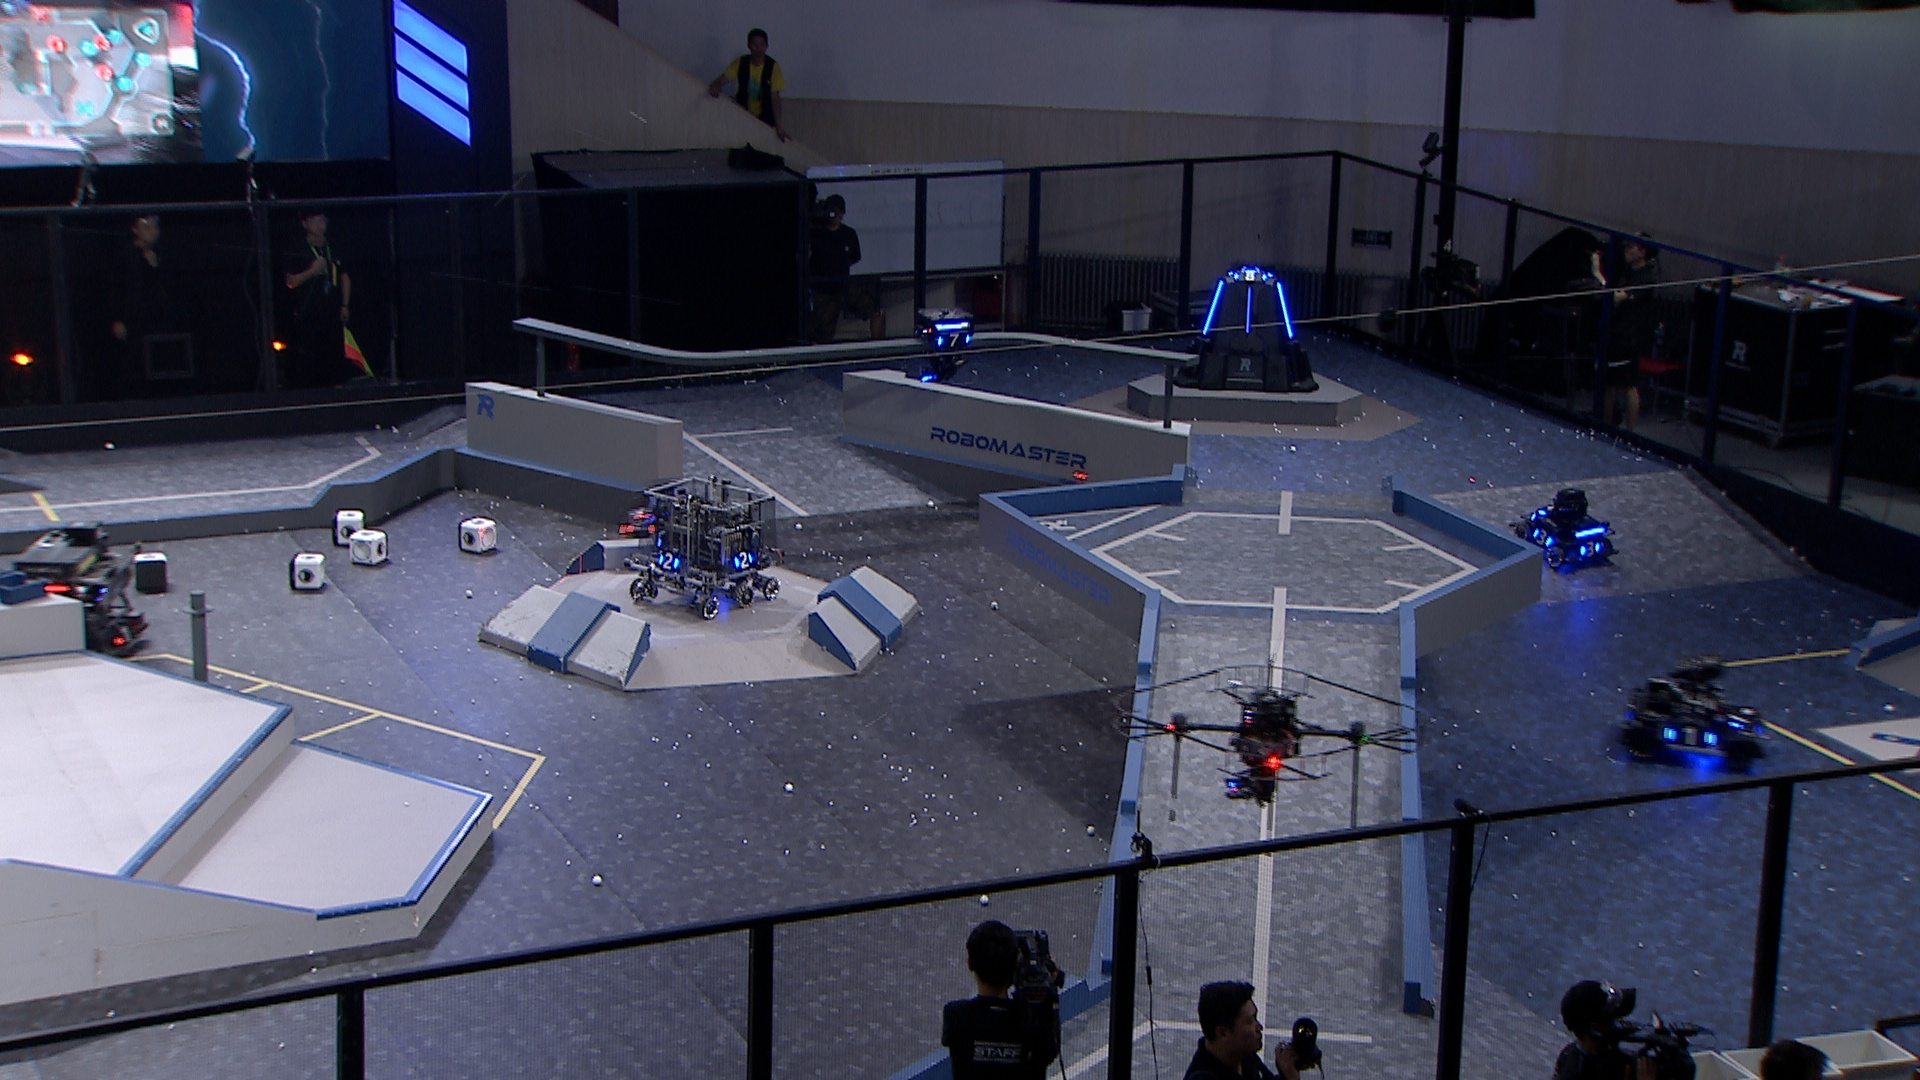armor: (1201, 278, 1226, 335), (1275, 281, 1299, 338), (1664, 727, 1717, 750), (936, 332, 973, 349), (1230, 268, 1269, 284), (1724, 711, 1753, 731), (112, 622, 135, 647), (655, 551, 680, 574), (1528, 527, 1555, 549), (731, 551, 756, 571), (1244, 289, 1254, 334), (629, 502, 651, 524), (1577, 542, 1602, 559)
base: (1167, 258, 1324, 392)
car: (622, 476, 782, 622), (11, 522, 154, 657), (1617, 654, 1774, 774), (1510, 483, 1613, 570), (613, 483, 703, 553)
watcher: (911, 305, 982, 382)
